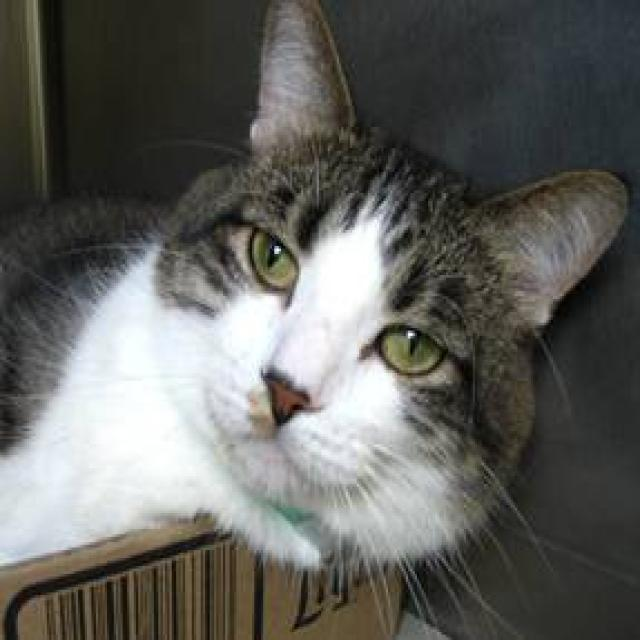cat: (0, 0, 629, 637)
